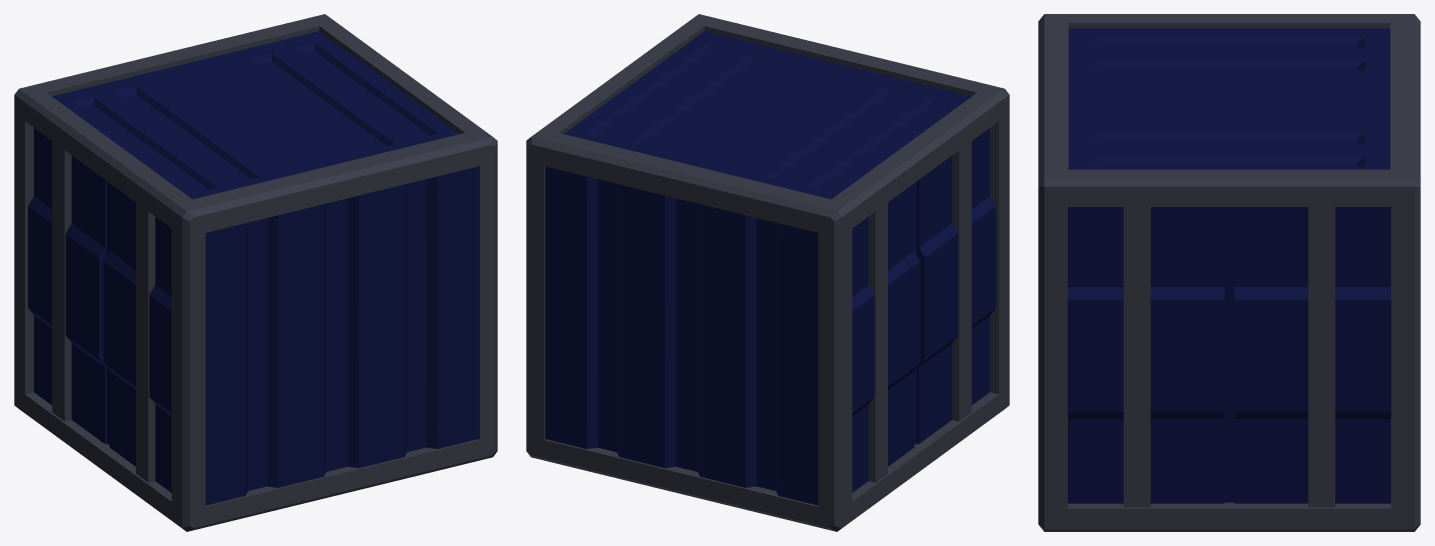
Rendered from Container_Small.obj.
3 renders of one model, left to right at view 1: azimuth 30°, elevation 25°; view 2: azimuth 150°, elevation 25°; view 3: azimuth 270°, elevation 25°, orthographic. The views are drawn at different scales.
Visible parts, largest first — view 1: Container_Small_Cube.269; view 2: Container_Small_Cube.269; view 3: Container_Small_Cube.269.
Part boxes in pixels (<box>): Container_Small_Cube.269: <box>14,14,497,531</box>; Container_Small_Cube.269: <box>526,14,1009,531</box>; Container_Small_Cube.269: <box>1038,14,1420,531</box>.
Size of the model in its own units: 2.19 by 2.13 by 2.09.
